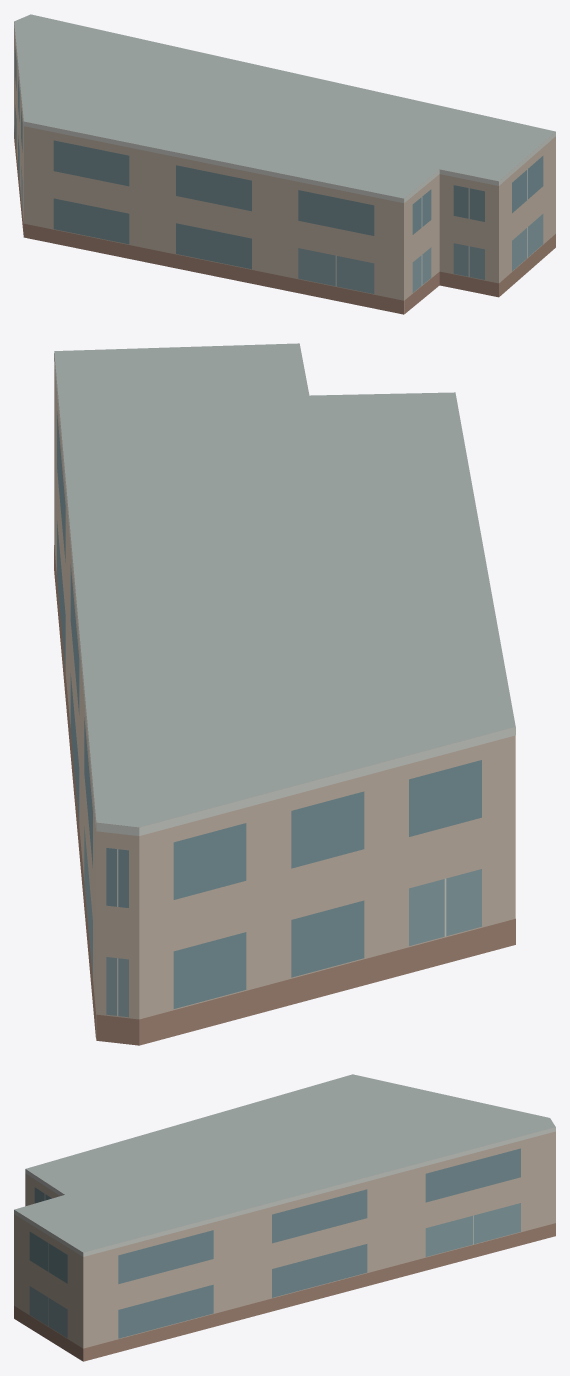
File: survey-upis-32764478.glb
3 renders of one model, top to bottom at view 1: azimuth 30°, elevation 25°; view 2: azimuth 150°, elevation 25°; view 3: azimuth 270°, elevation 25°, orthographic. The views are drawn at different scales.
Visible parts, largest first — view 1: survey-upis-32764478.tmp; view 2: survey-upis-32764478.tmp; view 3: survey-upis-32764478.tmp.
Boxes of the visible parts, x1,y1,x2,y2 form: survey-upis-32764478.tmp: [14, 14, 555, 314]; survey-upis-32764478.tmp: [54, 343, 515, 1045]; survey-upis-32764478.tmp: [14, 1074, 555, 1361].
Bounding box in the file's own units: 21.4 × 6.1 × 27.48.
